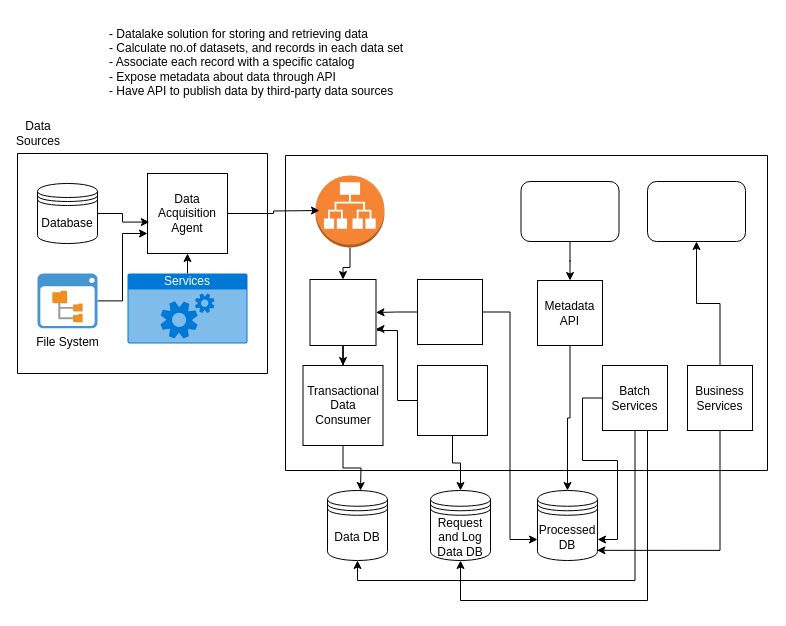
The diagram is 786 pixels wide and 626 high, and some of its shapes have lost their labels. Each missing label, with the centre of its shape:
Application Data Consumer: point 452,400
BI Dashboard: point 696,211
Data Streaming Engine: point 342,312
Metadata Dashboard: point 569,211
Metric Service: point 449,311
